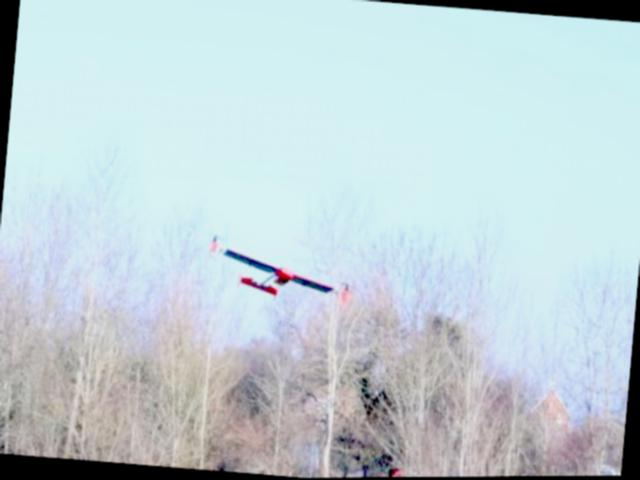uav: (198, 220, 364, 323)
